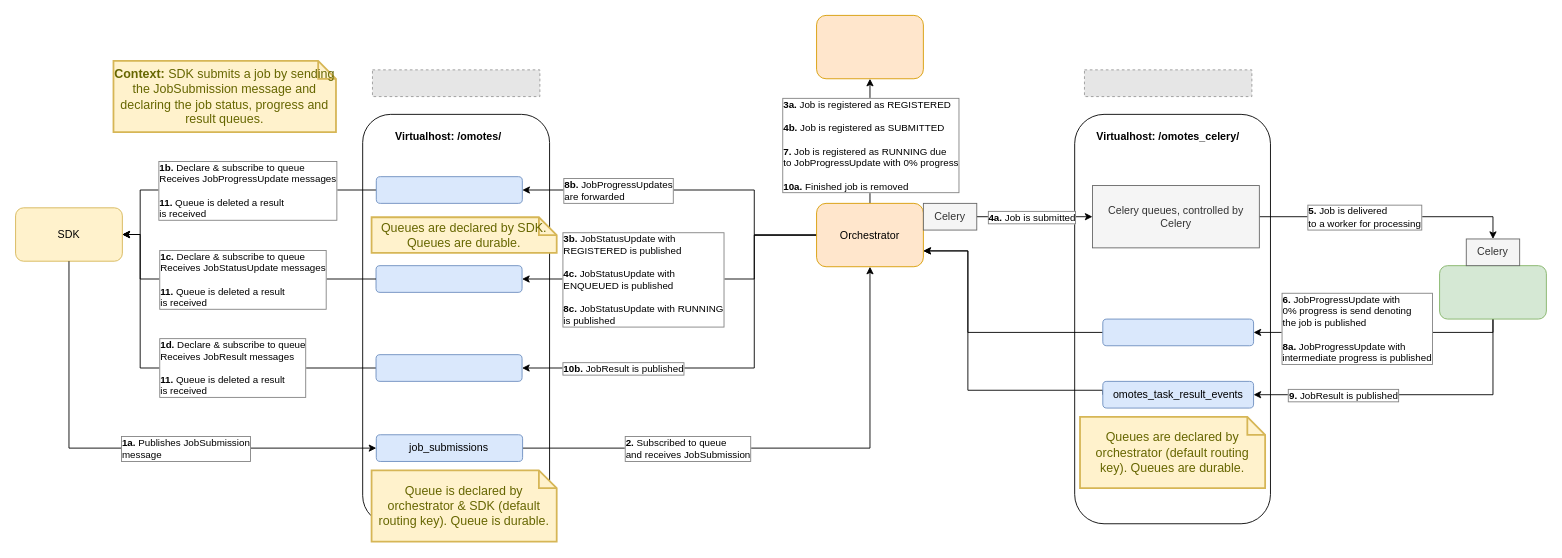
Some shapes in this 1562 by 558 pixel diagram are drawn without their labels. Grey dashed boxes stand in for pictures. The shapes that lost their labels are listed below. From the top down, each one's box as (x1, y1, x2, y2) in pixels, then its label:
(816, 15, 923, 79): PostgreSQL
(375, 176, 522, 203): jobs.<uuid>.progress
(375, 265, 522, 292): jobs.<uuid>.status
(1439, 265, 1546, 319): Worker
(1102, 318, 1254, 346): omotes_task_progress_events
(375, 354, 522, 381): jobs.<uuid>.result
